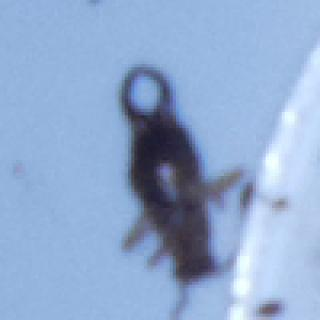earwig: (111, 61, 257, 320)
